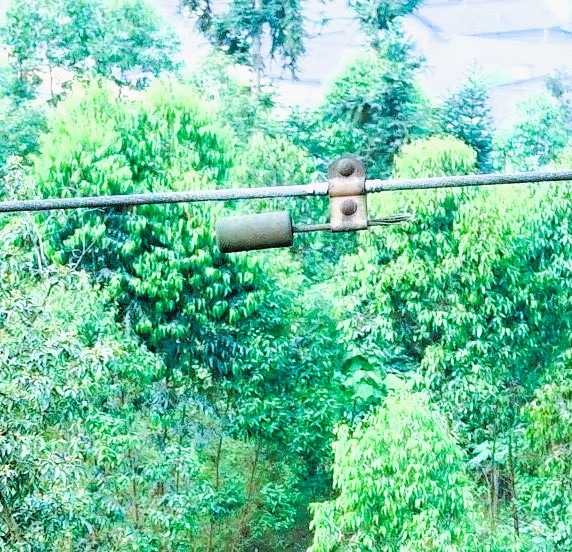Damage of shockproof hammer: (207, 150, 416, 262)
